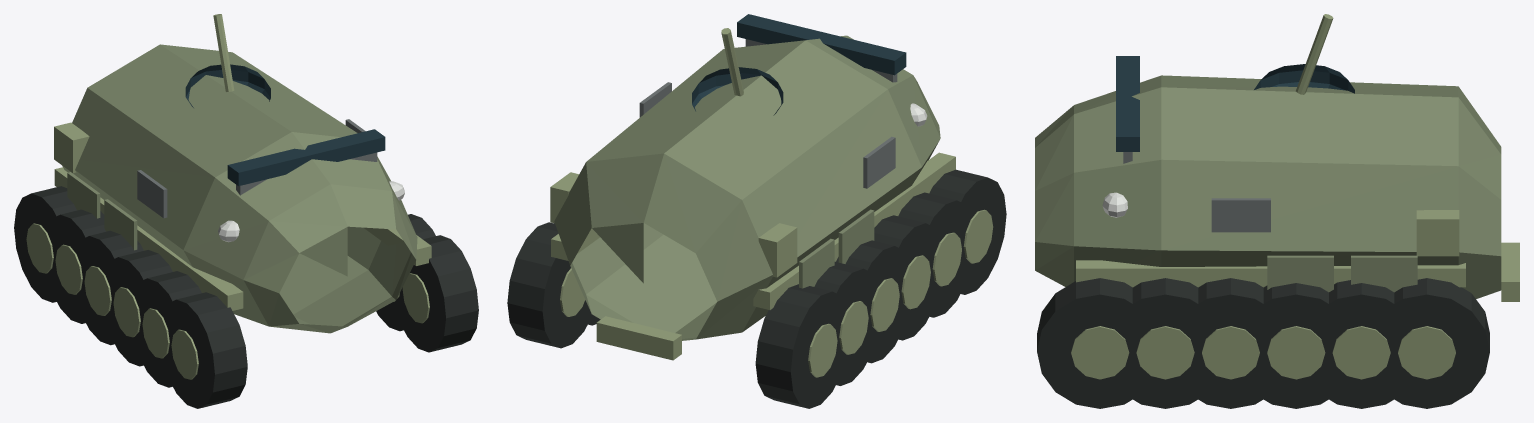
Rendered from pindad-anoa-6x6.glb.
3 renders of one model, left to right at view 1: azimuth 30°, elevation 25°; view 2: azimuth 150°, elevation 25°; view 3: azimuth 270°, elevation 25°, orthographic. The views are drawn at different scales.
Parts seen in each view (by area): view 1: pindad-anoa-6x6; view 2: pindad-anoa-6x6; view 3: pindad-anoa-6x6.
Part boxes in pixels (box(x1,y1,x2,y2)): pindad-anoa-6x6: box(14, 14, 478, 408); pindad-anoa-6x6: box(507, 14, 1006, 408); pindad-anoa-6x6: box(1035, 14, 1519, 408).
Bounding box in the file's own units: 1.89 × 1.91 × 2.61.
